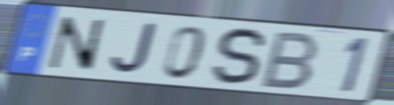0: (162, 24, 209, 80)
1: (341, 36, 371, 96)
B: (257, 30, 322, 92)
J: (108, 22, 159, 77)
N: (46, 14, 107, 74)
S: (209, 26, 270, 88)
